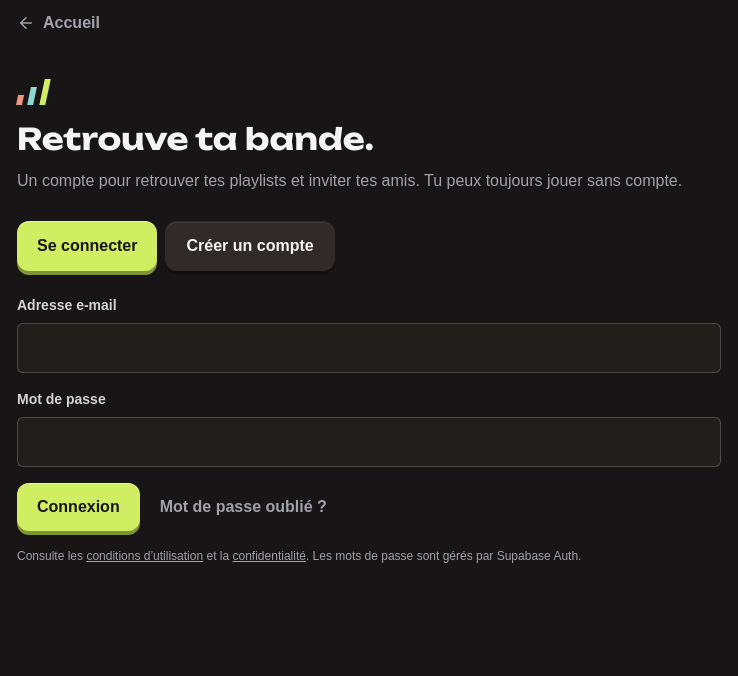
it: account access and recovery › submits sign-up to Auth and explains email confirmation
Click the button "Créer un compte" at (250, 246), box x1=166 y1=221 x2=335 y2=271
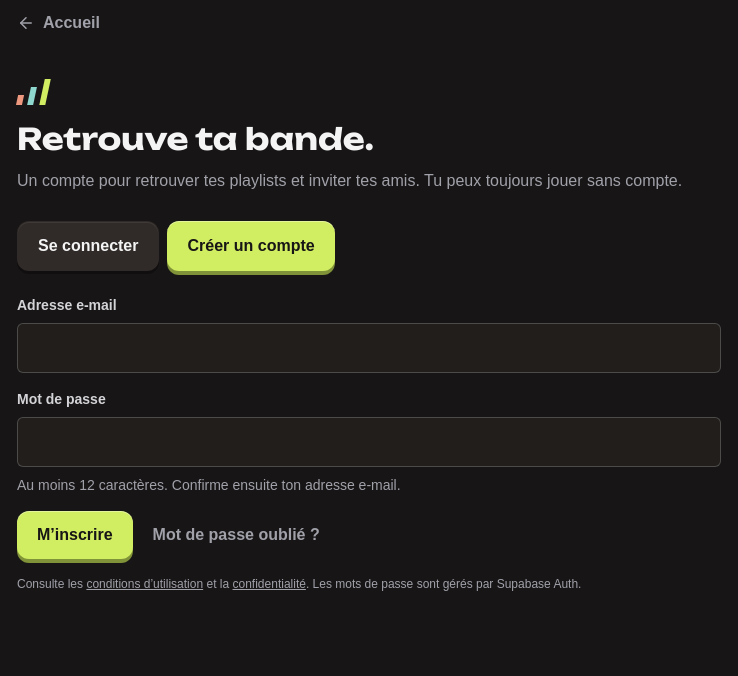
Type "nina@example.test" into the field labelled "Adresse e-mail" at (369, 348), box x1=17 y1=323 x2=721 y2=373
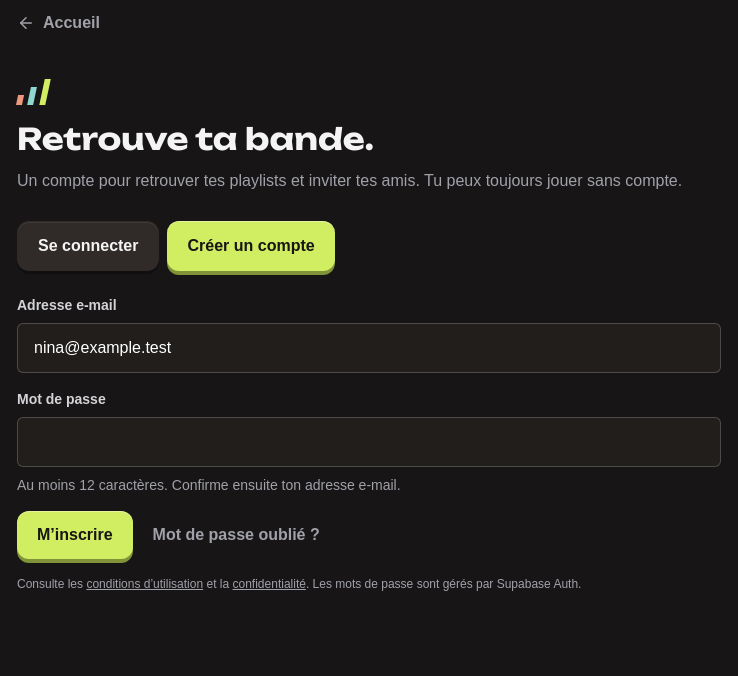
Type "a-long-fixture-password" into the password field labelled "Mot de passe" at (369, 442), box x1=17 y1=417 x2=721 y2=467
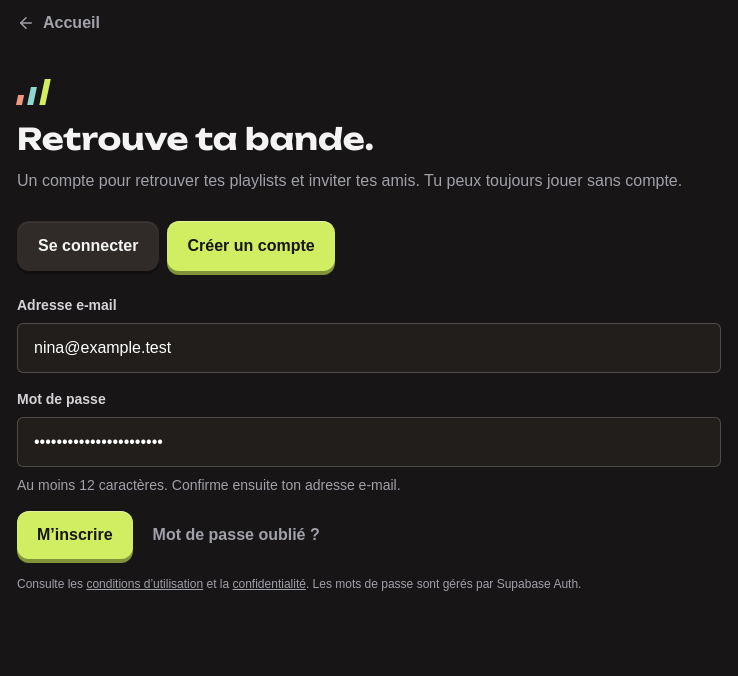
Click the button "M’inscrire" at (75, 535), box x1=17 y1=511 x2=133 y2=559
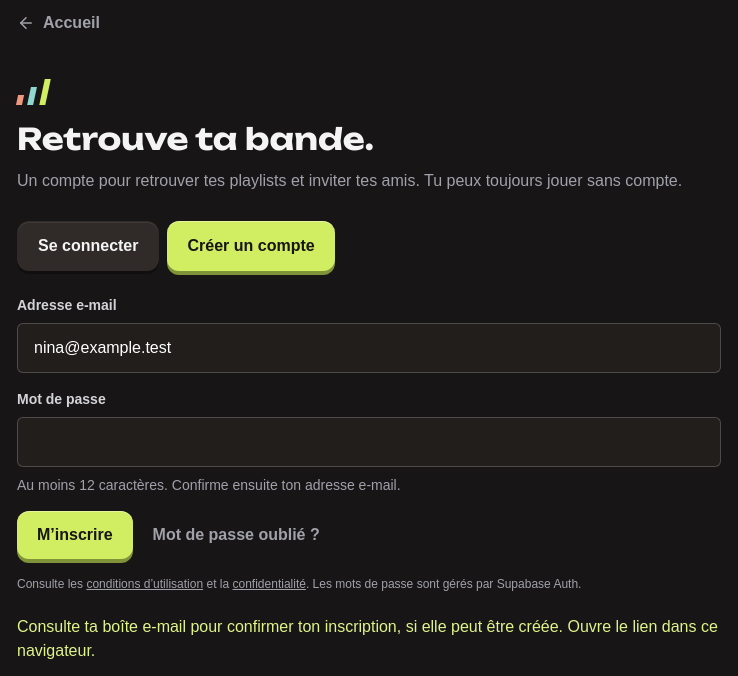
Check: the message shows "confirmer ton inscription", box x1=17 y1=618 x2=718 y2=659
Check: the password field labelled "Mot de passe" is empty, box x1=17 y1=417 x2=721 y2=467
